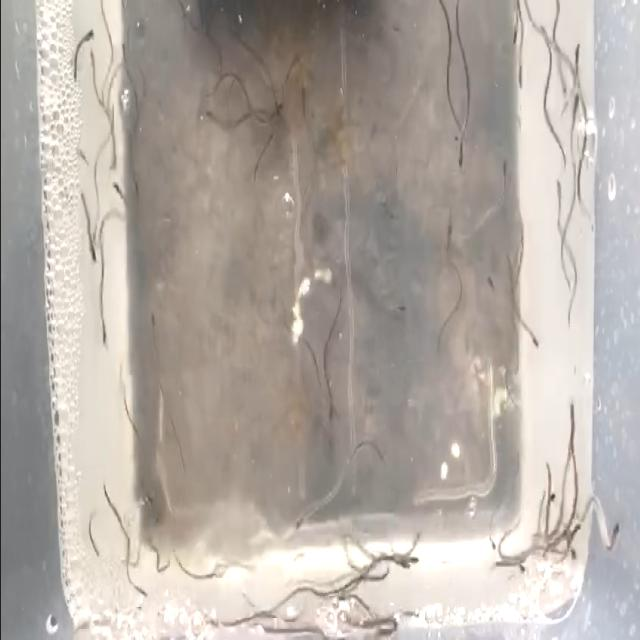inactive_glass_eel: (563, 402, 581, 448), (267, 89, 288, 121), (550, 181, 566, 220), (604, 518, 620, 556), (293, 498, 309, 534), (570, 36, 584, 76), (569, 81, 581, 126), (390, 551, 410, 578), (98, 306, 110, 350), (322, 393, 337, 428), (111, 178, 128, 208), (441, 208, 453, 246), (398, 544, 418, 566), (543, 487, 557, 518), (566, 530, 578, 566), (484, 264, 498, 294), (203, 103, 222, 125), (499, 153, 514, 180), (458, 130, 468, 170), (512, 557, 528, 581), (88, 232, 98, 270), (524, 324, 540, 346), (392, 292, 407, 315), (556, 70, 566, 104), (486, 528, 498, 556), (146, 309, 156, 341), (517, 55, 525, 93), (102, 480, 113, 506), (536, 32, 548, 54), (79, 28, 95, 42), (510, 42, 521, 51)
